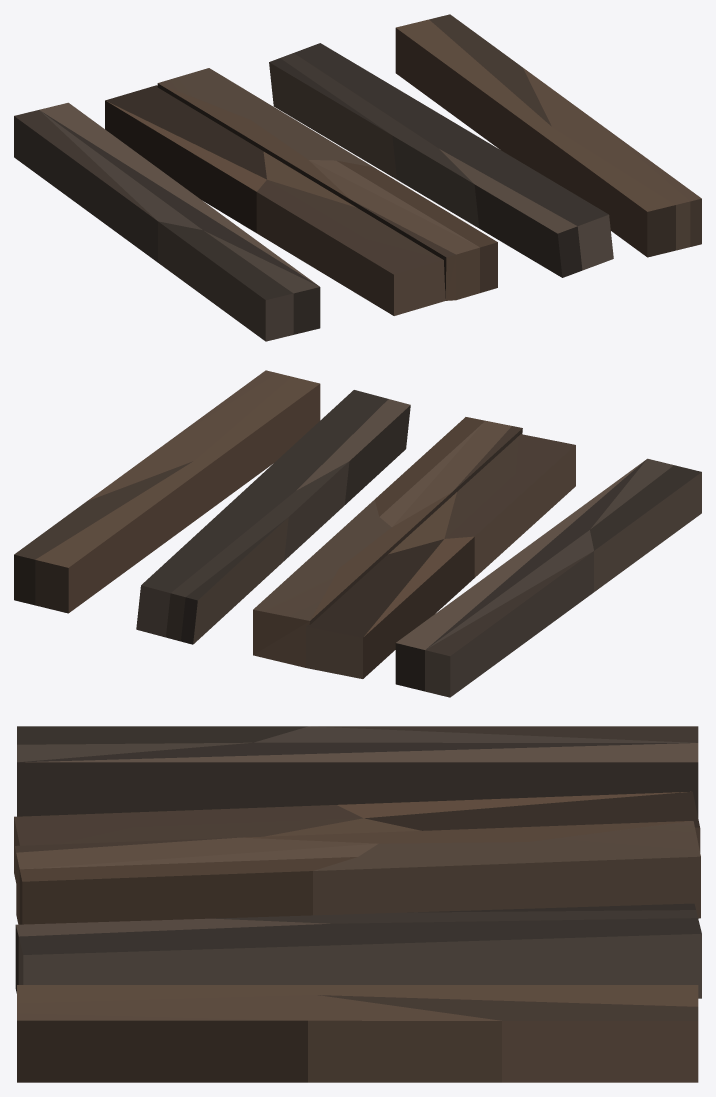
File: Floor_WoodC.fbx
The picture shows the model from 3 angles, top to bottom: view 1: azimuth 30°, elevation 25°; view 2: azimuth 150°, elevation 25°; view 3: azimuth 270°, elevation 25°; orthographic projection. The views are drawn at different scales.
Parts seen in each view (by area): view 1: Floor_WoodC; view 2: Floor_WoodC; view 3: Floor_WoodC.
Part boxes in pixels (bbox=[...]): Floor_WoodC: bbox=[14, 14, 701, 341]; Floor_WoodC: bbox=[14, 370, 701, 697]; Floor_WoodC: bbox=[14, 726, 701, 1082].
Bounding box in the file's own units: 250 × 28.8 × 252.
